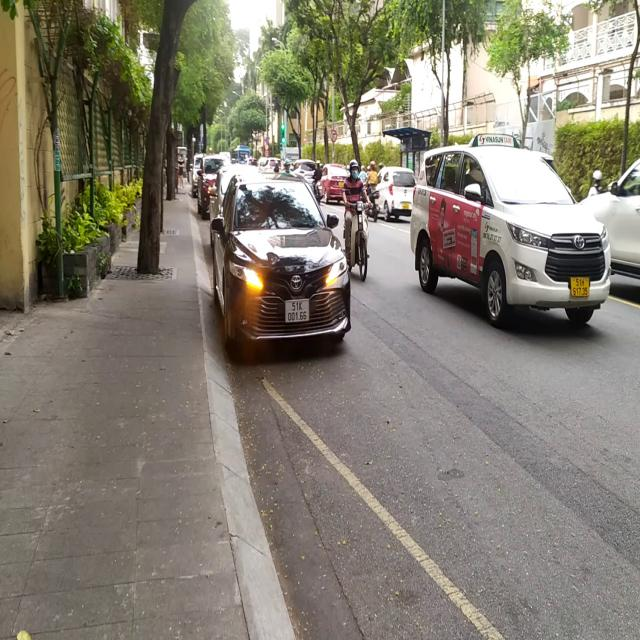bien_trang: (284, 298, 312, 325)
bien_vang: (570, 276, 592, 300)
